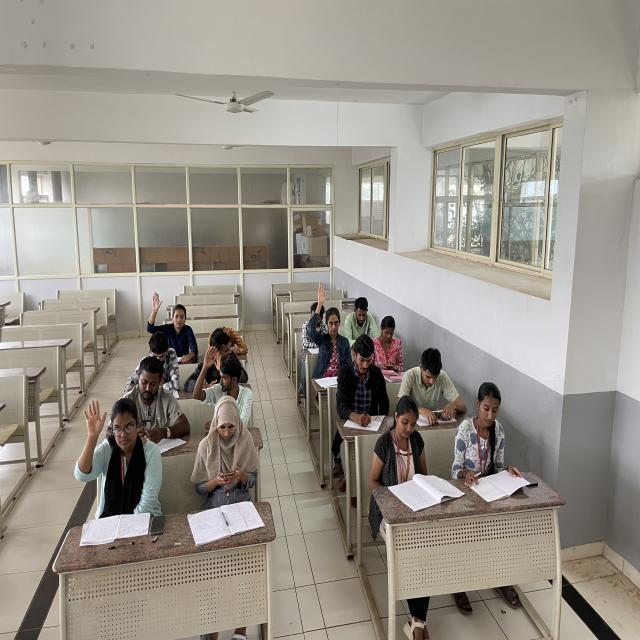Hand Rising: (75, 394, 165, 515), (192, 342, 252, 418), (309, 280, 351, 366), (144, 288, 200, 352)
Reading: (454, 380, 518, 485), (374, 393, 431, 496)
Sleeping: (206, 322, 252, 357)
Using Phone: (188, 392, 262, 506), (124, 356, 193, 450), (404, 346, 465, 424), (374, 314, 406, 374), (344, 294, 380, 340)
Writing: (335, 333, 390, 429)
